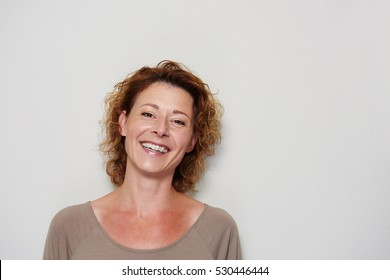NoMask: (129, 101, 193, 175)
